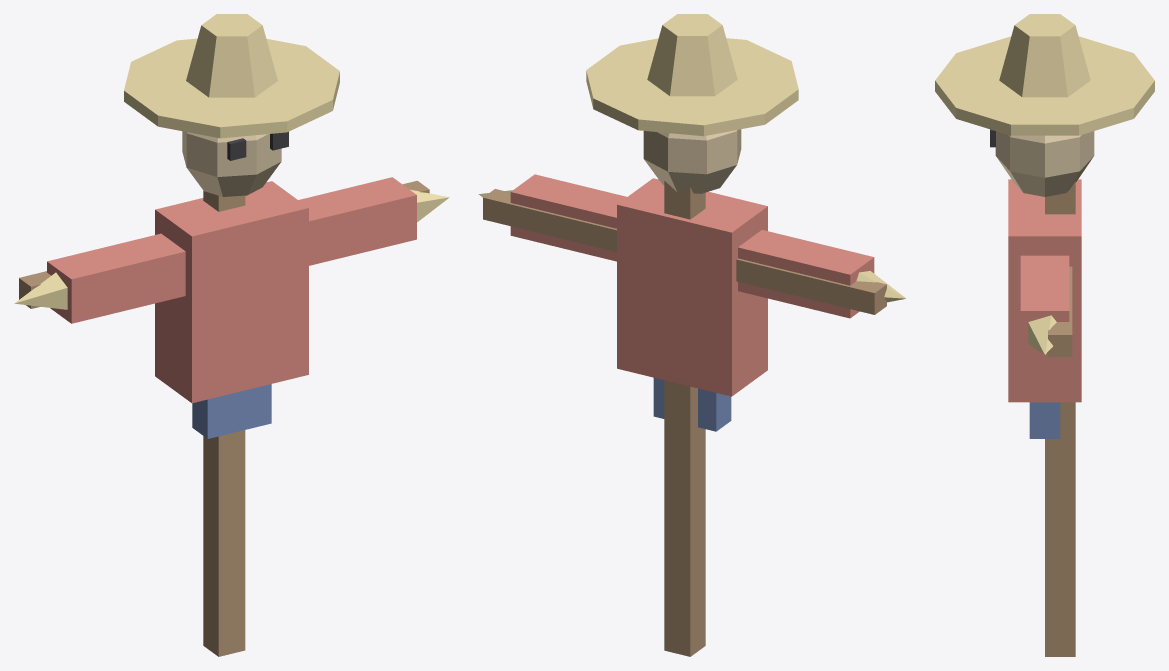
Rendered from scarecrow.glb.
3 renders of one model, left to right at view 1: azimuth 30°, elevation 25°; view 2: azimuth 150°, elevation 25°; view 3: azimuth 270°, elevation 25°, orthographic.
Parts seen in each view (by area): view 1: scarecrow; view 2: scarecrow; view 3: scarecrow.
Part boxes in pixels (x1,y1,x2,y2): scarecrow: [14, 14, 449, 656]; scarecrow: [478, 14, 905, 656]; scarecrow: [935, 14, 1154, 656].
Bounding box in the file's own units: 1.64 × 2.26 × 0.72.
